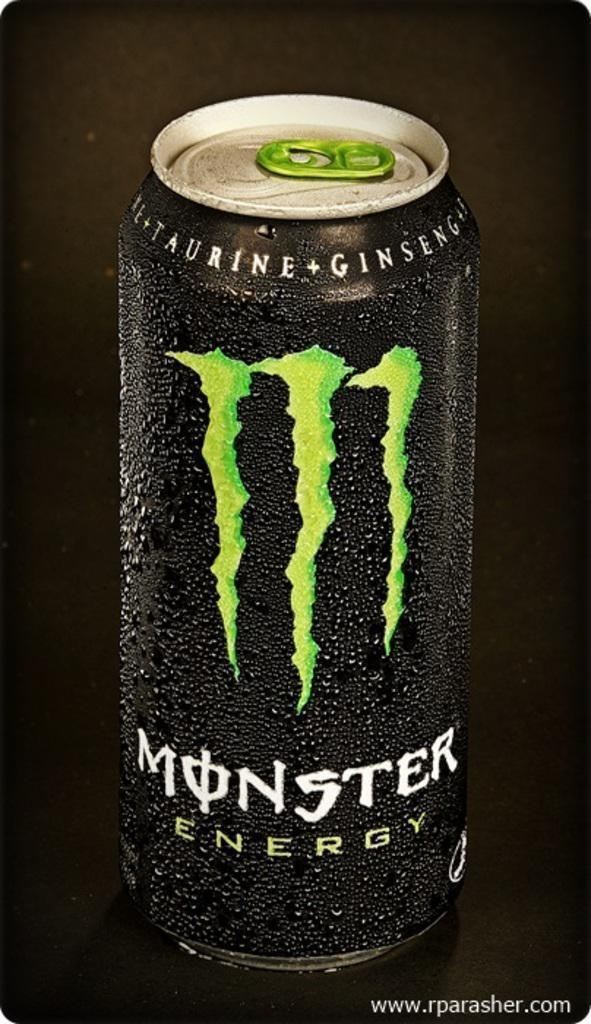tin can: (112, 91, 485, 980)
